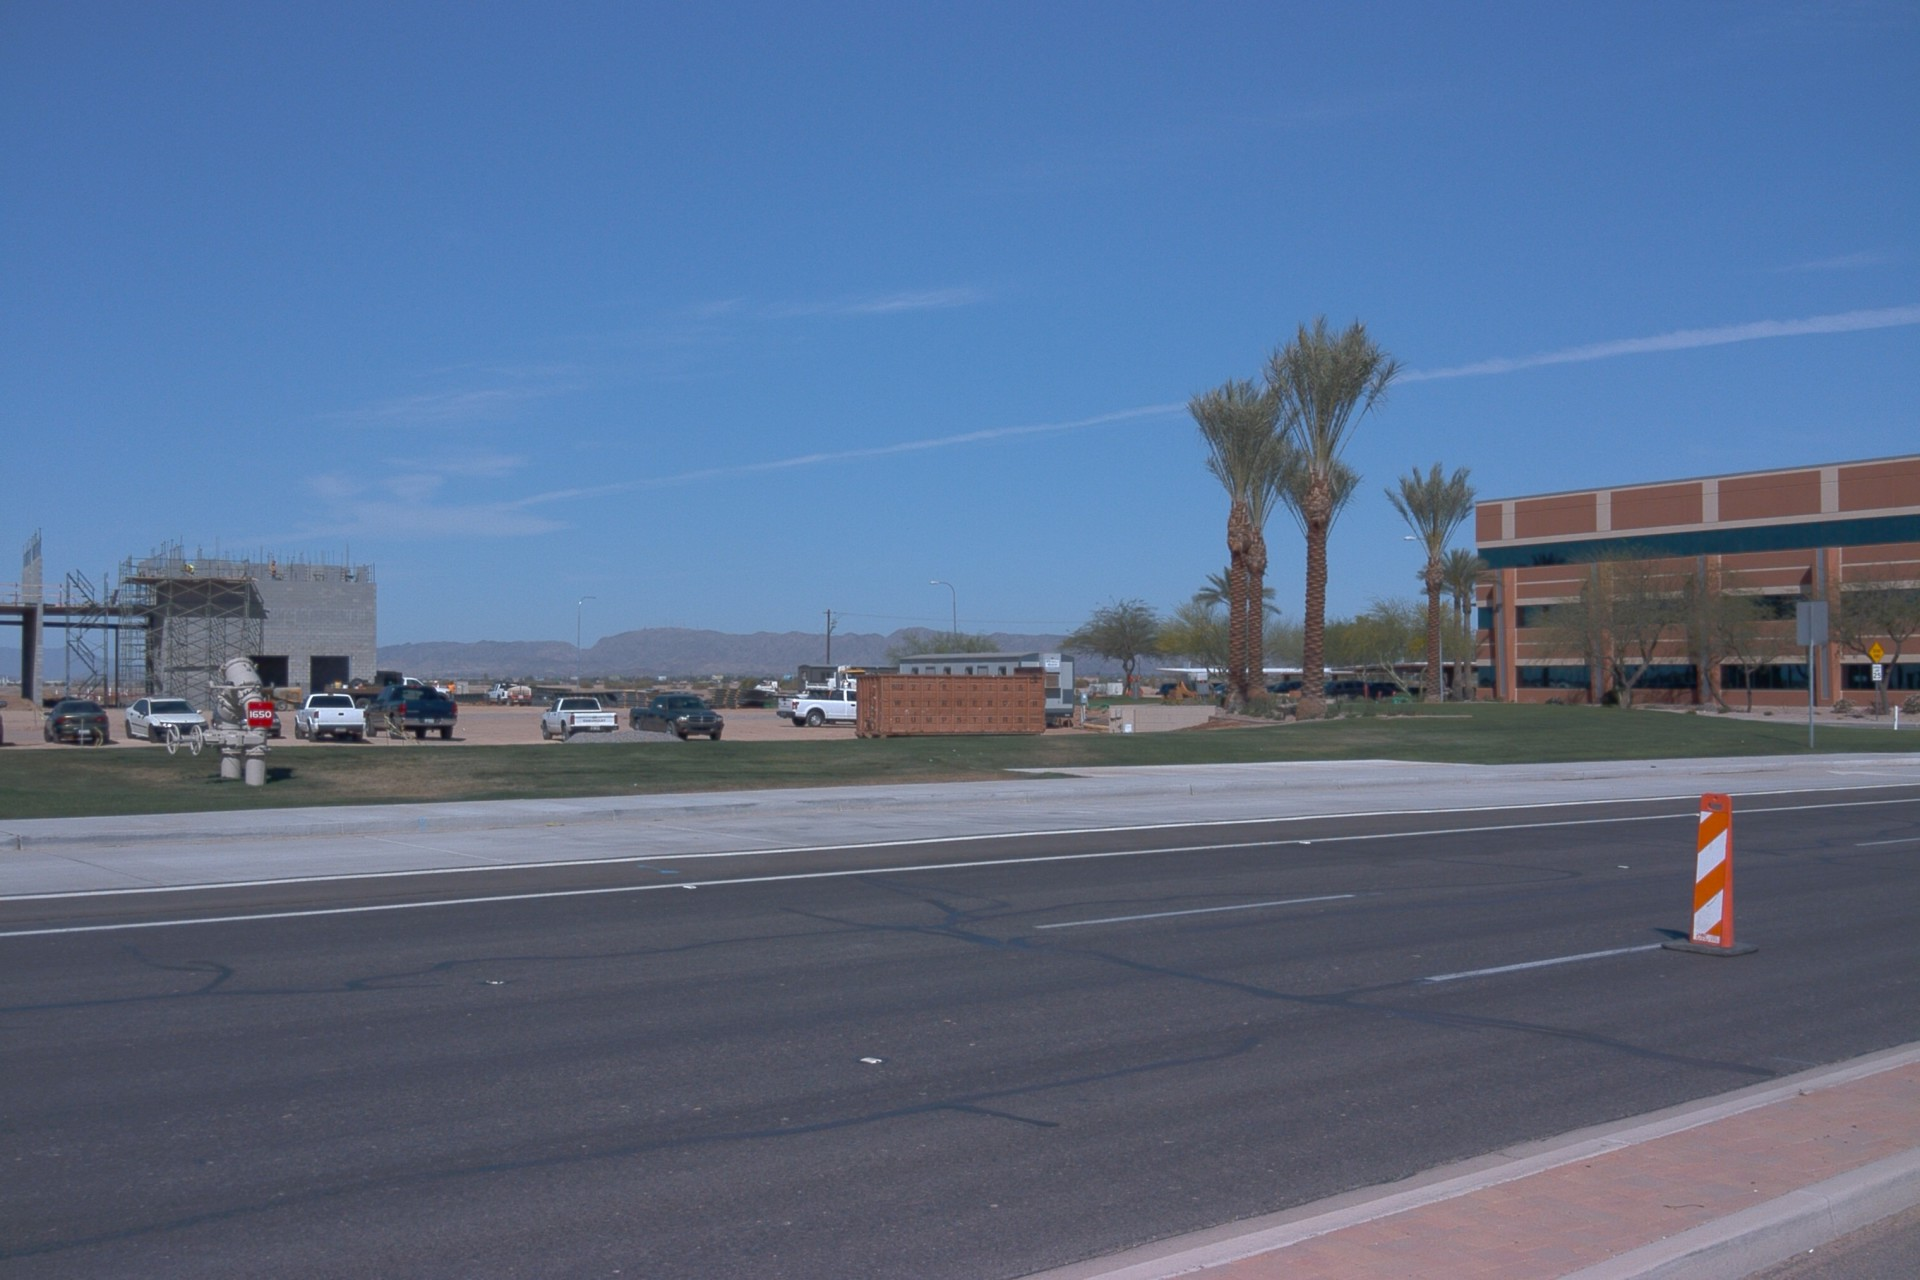TYPE_PEDESTRIAN: (180, 561, 196, 579), (447, 681, 458, 703)
TYPE_VEHICLE: (362, 681, 455, 741), (628, 691, 726, 742), (321, 672, 425, 715), (126, 692, 212, 743), (537, 691, 621, 741), (294, 690, 368, 742), (772, 684, 855, 730), (41, 699, 114, 751), (213, 694, 280, 741), (807, 665, 871, 705), (1325, 681, 1376, 703), (483, 687, 518, 708), (499, 688, 531, 709), (0, 688, 11, 747), (1270, 683, 1305, 699), (1371, 684, 1405, 700), (1160, 685, 1179, 701)
